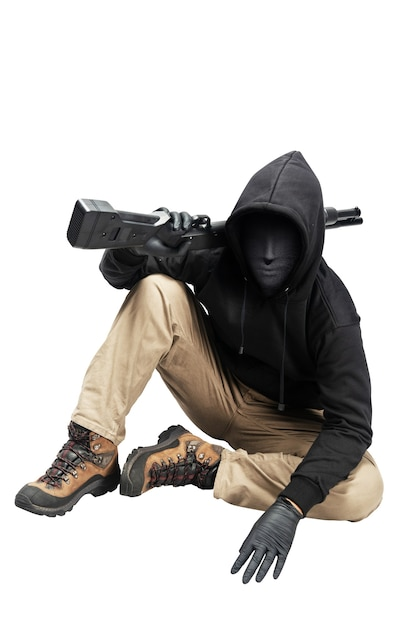gun: (64, 198, 364, 251)
